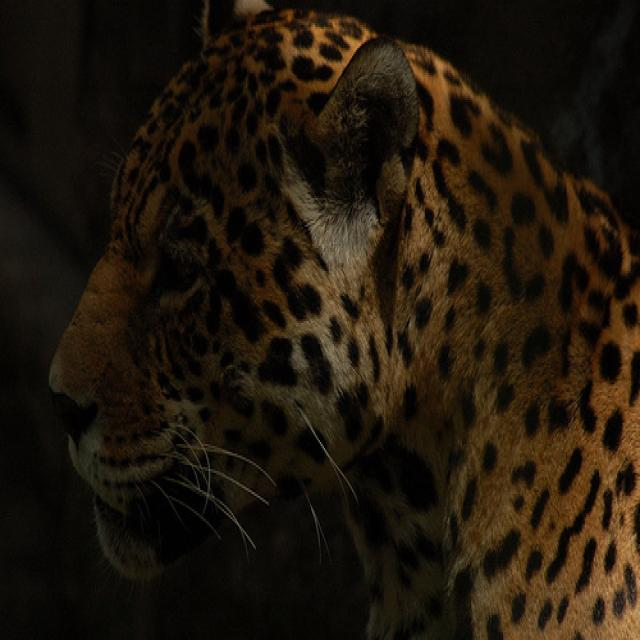Leopard: (38, 0, 638, 636)
